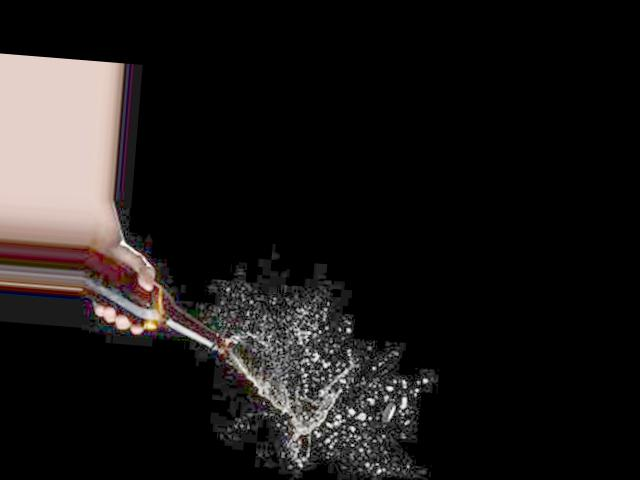beer: (76, 242, 233, 355)
